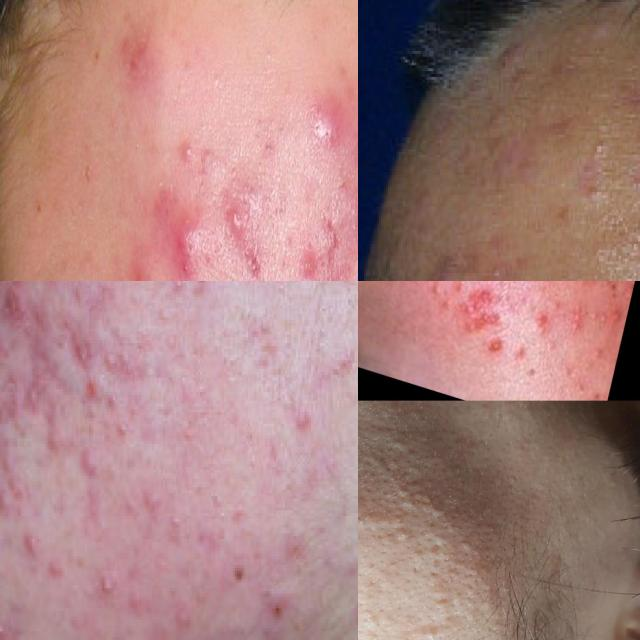acne_scars: (464, 282, 506, 317)
comedone: (381, 510, 495, 569), (559, 300, 592, 338), (590, 298, 610, 328), (430, 281, 451, 300), (597, 281, 626, 294)
crystanlline: (168, 133, 210, 179), (241, 249, 267, 281)
cystic: (300, 83, 354, 162), (174, 215, 200, 270)
flat_wart: (358, 581, 397, 640)
papule: (115, 13, 160, 96)
pustule: (226, 194, 259, 247), (299, 246, 322, 281), (609, 296, 630, 332), (487, 333, 512, 360)
